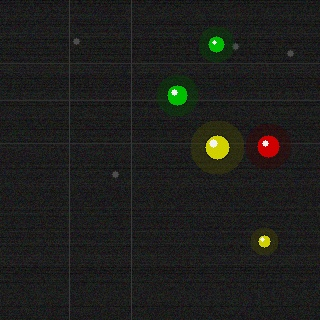green_normal: (165, 83, 189, 107), (206, 34, 226, 54)
red_fault: (255, 133, 281, 159)
yellow_warning: (203, 133, 231, 161), (256, 233, 272, 249)
